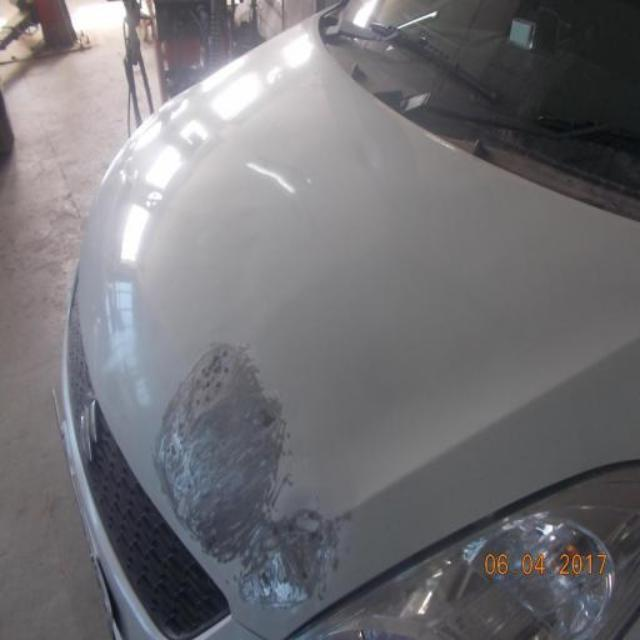dent: (146, 342, 343, 620)
